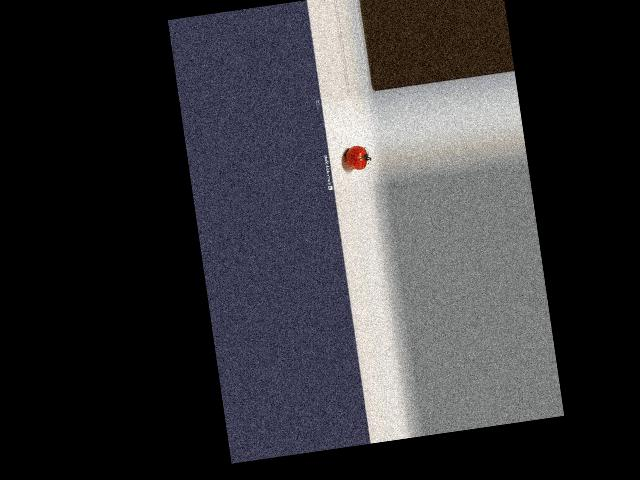tomato: (343, 144, 368, 171)
